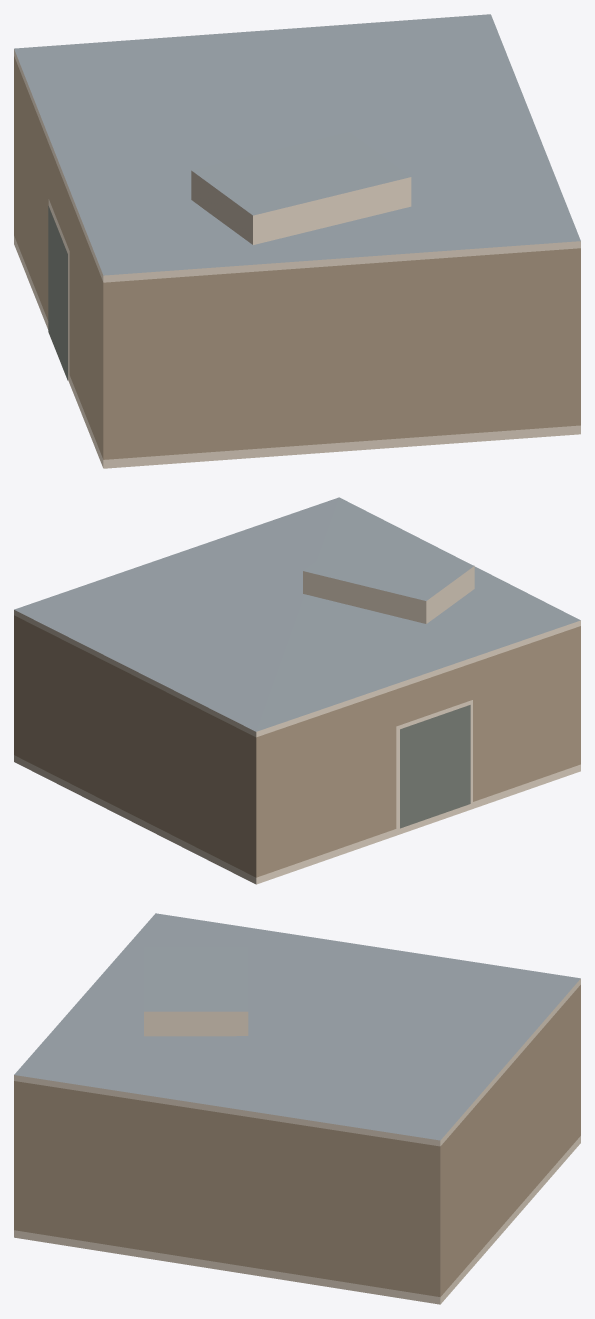
Rendered from dc-au-jacobs-field-outbuilding.glb.
3 views of the same model, one above another, from view 1: azimuth 30°, elevation 25°; view 2: azimuth 150°, elevation 25°; view 3: azimuth 270°, elevation 25° (orthographic). The views are drawn at different scales.
Parts seen in each view (by area): view 1: Outbuilding near Jacobs Field; view 2: Outbuilding near Jacobs Field; view 3: Outbuilding near Jacobs Field.
Boxes of the visible parts, x1=… form: Outbuilding near Jacobs Field: x1=14, y1=14, x2=580, y2=468; Outbuilding near Jacobs Field: x1=14, y1=497, x2=580, y2=884; Outbuilding near Jacobs Field: x1=14, y1=913, x2=580, y2=1304.
Bounding box in the file's own units: 9.86 × 3.78 × 10.33.
